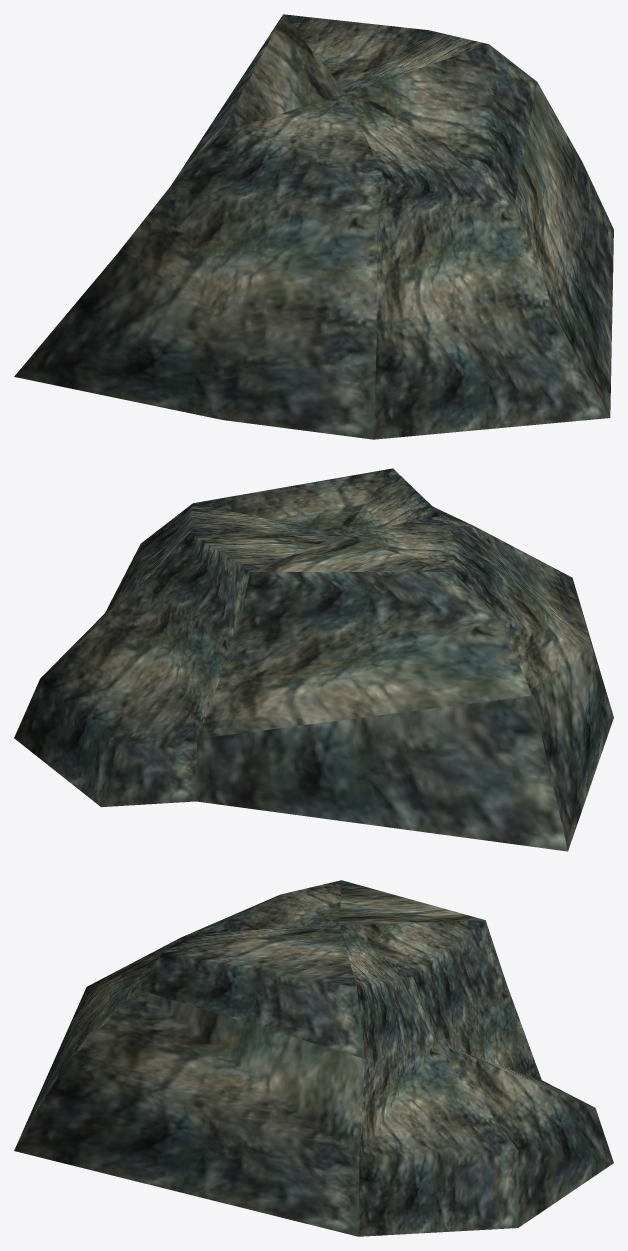
The model's file is pir_m_are_isl_rockMed_low.fbx.
3 renders of one model, top to bottom at view 1: azimuth 30°, elevation 25°; view 2: azimuth 150°, elevation 25°; view 3: azimuth 270°, elevation 25°, orthographic. The views are drawn at different scales.
Visible parts, largest first — view 1: horizon_lod; view 2: horizon_lod; view 3: horizon_lod.
Boxes of the visible parts, x1=… form: horizon_lod: x1=14, y1=14, x2=613, y2=439; horizon_lod: x1=14, y1=468, x2=613, y2=851; horizon_lod: x1=14, y1=880, x2=613, y2=1236.
Size of the model in its own units: 74796 by 32560 by 76385.
Materials: 1 (1 with a texture image).
